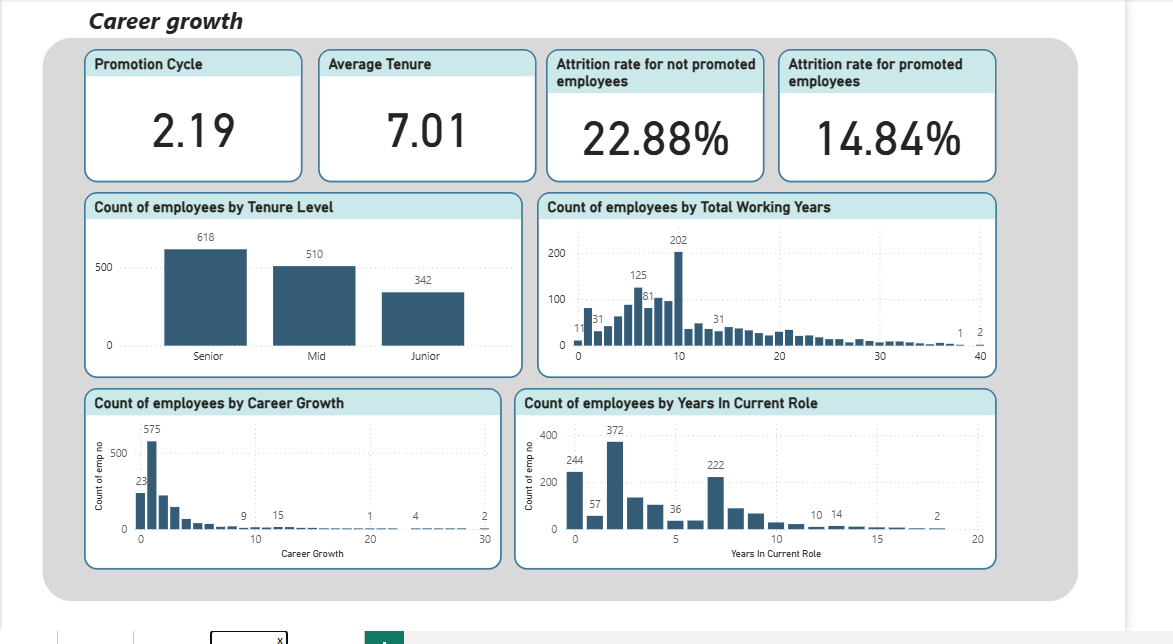

Layout of this report page (visuals, bound fields, positions):
{"tool":"powerbi","page":{"name":"Page 2","canvas":[1280,720],"ordinal":3},"visuals":[{"type":"card","title":"Promotion Cycle","fields":{"Values":["HR.Promotion Cycle"]},"box":[93.8,56.5,249.3,151.6],"z":0},{"type":"columnChart","title":"Count of employees by Tenure Level","fields":{"Y":["CountNonNull(HR.emp no)"],"Category":["HR.Tenure Level"]},"box":[93.8,219.8,499.9,212],"z":2000},{"type":"columnChart","title":"Count of employees by Total Working Years","fields":{"Category":["HR.Total Working Years"],"Y":["CountNonNull(HR.emp no)"]},"box":[609.2,219.8,524.3,212],"z":3000},{"type":"columnChart","title":"Count of employees by Career Growth","fields":{"Category":["HR.Career Growth"],"Y":["CountNonNull(HR.emp no)"]},"box":[93.8,443.4,475.5,206.9],"z":4000},{"type":"columnChart","title":"Count of employees by Years In Current Role","fields":{"Category":["HR.Years In Current Role"],"Y":["CountNonNull(HR.emp no)"]},"box":[583.5,443.4,550,206.9],"z":5000},{"type":"card","title":"Average Tenure","fields":{"Values":["HR.average tenure"]},"box":[359.8,56.5,249.3,151.6],"z":7000},{"type":"textbox","box":[93.8,0,188.9,152.9],"z":7001},{"type":"card","title":"Attrition rate for not promoted employees","fields":{"Values":["HR.Attrition Rate No Growth"]},"box":[619.4,56.5,249.3,151.6],"z":7002},{"type":"card","title":"Attrition rate for  promoted employees","fields":{"Values":["HR.Attrition Rate With Growth"]},"box":[884.2,56.5,249.3,151.6],"z":7003}]}

Visuals, with their boxes in screenshot pixels (x1, y1, x2, y2), scaled from the page's 1280x720 canvas onto the 1173x644 screenshot:
"Promotion Cycle" card: [left=86, top=51, right=314, bottom=186]
"Count of employees by Tenure Level" columnChart: [left=86, top=197, right=544, bottom=386]
"Count of employees by Total Working Years" columnChart: [left=558, top=197, right=1039, bottom=386]
"Count of employees by Career Growth" columnChart: [left=86, top=397, right=522, bottom=582]
"Count of employees by Years In Current Role" columnChart: [left=535, top=397, right=1039, bottom=582]
"Average Tenure" card: [left=330, top=51, right=558, bottom=186]
textbox: [left=86, top=0, right=259, bottom=137]
"Attrition rate for not promoted employees" card: [left=568, top=51, right=796, bottom=186]
"Attrition rate for  promoted employees" card: [left=810, top=51, right=1039, bottom=186]
